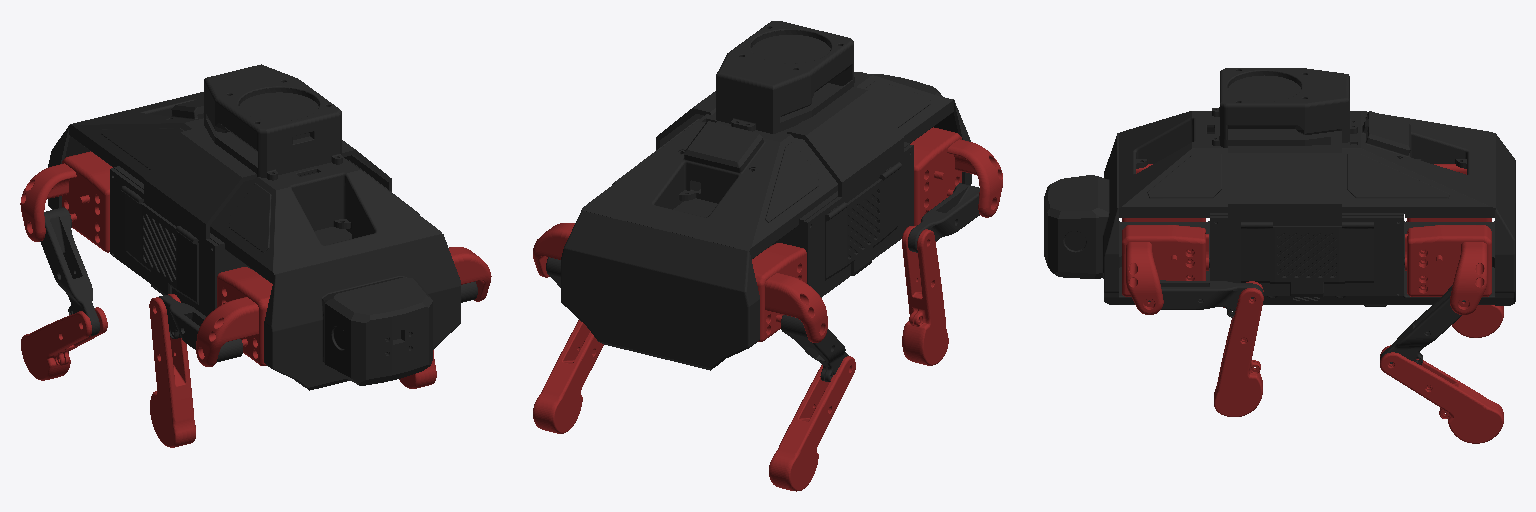
The robot description file, URDF, robot "TORTO":
<?xml version="1.0"?>
<robot name="TORTO" >

    <material name="grey">
        <color rgba="0.2 0.2 0.2 1.0" />
    </material>

   <material name="darkRed">
        <color rgba="0.6 0.2 0.2 1.0" />
    </material>

    <link name="tortoBody_link">
        <visual>
            <origin xyz="0 0 0" rpy="0 0 0" />
            <geometry>
                <mesh filename="package://torto_description/meshes/frame/torto_Body.stl" scale="0.001 0.001 0.001"/>
            </geometry>
            <material name="grey" />
        </visual>
        <collision>
            <origin xyz="0 0 0" rpy="0 0 0" />
            <geometry>
                <mesh filename="package://torto_description/meshes/frame/collision_Body.stl" scale="0.001 0.001 0.001"/>
            </geometry>
        </collision>
                <inertial>
            <origin xyz="0 0 0" rpy="0 0 0" />
            <mass value="3.290203" />
        <inertia ixx="0.03564" ixy="0.000004006" ixz="-0.0000195224"
                iyy="0.01457" iyz="0.0005701"
                izz="0.03507"/>
        </inertial>
    </link>

    <link name="tortoDetoidFL_link">
        <visual>
            <origin xyz="0.0078 -0.04 0.0032" rpy="0 0 1.57" />  
            <geometry>
                <mesh filename="package://torto_description/meshes/frame/torto_detoid_FLBR.stl" scale="0.001 0.001 0.001"/>
            </geometry>
            <material name="darkRed" />
        </visual>
        <collision>
            <origin xyz="0.0078 -0.04 0.0032" rpy="0 0 1.57" />  
            <geometry>
                <mesh filename="package://torto_description/meshes/frame/collision_DetoidFLBR.stl" scale="0.001 0.001 0.001"/>
            </geometry>
        </collision>
        <inertial>
            <origin xyz="0 0 0" rpy="0 0 0" />
            <mass value="0.24" />
            <inertia ixx="0.0001347" ixy="-0.00002384" ixz="0.000004721"
                    iyy="0.0001803" iyz="0.000003043"
                    izz="0.0001855"/>
        </inertial>
    </link>

    <link name="tortoDetoidFR_link">
        <visual>
            <origin xyz="-0.0078 -0.04 0.0032" rpy="0 0 -1.57" />  
            <geometry>
                <mesh filename="package://torto_description/meshes/frame/torto_detoid_FRBL.stl" scale="0.001 0.001 0.001"/>
            </geometry>
            <material name="darkRed" />
        </visual>
        <collision>
            <origin xyz="-0.0078 -0.04 0.0032" rpy="0 0 -1.57" />  
            <geometry>
                <mesh filename="package://torto_description/meshes/frame/collision_DetoidFRBL.stl" scale="0.001 0.001 0.001"/>
            </geometry>
        </collision>
        <inertial>
            <origin xyz="0 0.1 0" rpy="0 0 0" />
            <mass value="0.24" />
            <inertia ixx="0.0001347" ixy="0.00002384" ixz="-0.000004721"
                    iyy="0.0001803" iyz="0.000003035"
                    izz="0.0001855"/>
        </inertial>
    </link>

    <link name="tortoDetoidBL_link">
        <visual>
            <origin xyz="0.0078 0.04 0.0032" rpy="0 0 1.57" />  
            <geometry>
                <mesh filename="package://torto_description/meshes/frame/torto_detoid_FRBL.stl" scale="0.001 0.001 0.001"/>
            </geometry>
            <material name="darkRed" />
        </visual>
        <collision>
            <origin xyz="0.0078 0.04 0.0032" rpy="0 0 1.57" />  
            <geometry>
                <mesh filename="package://torto_description/meshes/frame/collision_DetoidFRBL.stl" scale="0.001 0.001 0.001"/>
            </geometry>
        </collision>
        <inertial>
            <origin xyz="0 0 0" rpy="0 0 0" />
            <mass value="0.24" />
            <inertia ixx="0.0001347" ixy="0.00002384" ixz="-0.000004721"
                    iyy="0.0001803" iyz="0.000003035"
                    izz="0.0001855"/>
        </inertial>
    </link>

    <link name="tortoDetoidBR_link">
        <visual>
            <origin xyz="-0.0078 0.04 0.0032" rpy="0 0 -1.57" />  
            <geometry>
                <mesh filename="package://torto_description/meshes/frame/torto_detoid_FLBR.stl" scale="0.001 0.001 0.001"/>
            </geometry>
            <material name="darkRed" />
        </visual>
        <collision>
            <origin xyz="-0.0078 0.04 0.0032" rpy="0 0 -1.57" />  
            <geometry>
                <mesh filename="package://torto_description/meshes/frame/collision_DetoidFLBR.stl" scale="0.001 0.001 0.001"/>
            </geometry>
        </collision>
        <inertial>
            <origin xyz="0 0 0" rpy="0 0 0" />
            <mass value="0.24" />
            <inertia ixx="0.0001347" ixy="-0.00002384" ixz="0.000004721"
                    iyy="0.0001803" iyz="0.000003043"
                    izz="0.0001855"/>
        </inertial>
    </link>

    <link name="tortoFemurFL_link">
        <visual>
            <origin xyz="0 0.0362 -0.0004" rpy="0 0 1.57" />  
            <geometry>
                <mesh filename="package://torto_description/meshes/frame/torto_femur_FLBR.stl" scale="0.001 0.001 0.001"/>
            </geometry>
            <material name="grey" />
        </visual>
        <collision>
            <origin xyz="0 0.0362 -0.0004" rpy="0 0 1.57" />  
            <geometry>
                <mesh filename="package://torto_description/meshes/frame/collision_FemurFLBR.stl" scale="0.001 0.001 0.001"/>
            </geometry>
        </collision>
        <inertial>
            <origin xyz="0 0 0" rpy="0 0 0" />
            <mass value="0.05" />
            <inertia ixx="0.0000280436" ixy="0.0000017226" ixz="-0.0000119249"
                    iyy="0.0000645956" iyz="0.00000049636"
                    izz="0.0000406034"/>
        </inertial>
    </link>

    <link name="tortoFemurFR_link">
        <visual>
            <origin xyz="0 0.0362 -0.0004" rpy="0 0 -1.57" />  
            <geometry>
                <mesh filename="package://torto_description/meshes/frame/torto_femur_FRBL.stl" scale="0.001 0.001 0.001"/>
            </geometry>
            <material name="grey" />
        </visual>
        <collision>
            <origin xyz="0 0.0362 -0.0004" rpy="0 0 -1.57" />  
            <geometry>
                <mesh filename="package://torto_description/meshes/frame/collision_FemurFRBL.stl" scale="0.001 0.001 0.001"/>
            </geometry>
        </collision>
        <inertial>
            <origin xyz="0 0 0" rpy="0 0 0" />
            <mass value="0.05" />
            <inertia ixx="0.0000280436" ixy="-0.0000017226" ixz="0.0000119249"
                    iyy="0.0000645956" iyz="0.00000049637"
                    izz="0.0000406034"/>
        </inertial>
    </link>

    <link name="tortoFemurBL_link">
        <visual>
            <origin xyz="0 -0.0362 -0.0004" rpy="0 0 1.57" />  
            <geometry>
                <mesh filename="package://torto_description/meshes/frame/torto_femur_FRBL.stl" scale="0.001 0.001 0.001"/>
            </geometry>
            <material name="grey" />
        </visual>
        <collision>
            <origin xyz="0 -0.0362 -0.0004" rpy="0 0 -1.57" />  
            <geometry>
                <mesh filename="package://torto_description/meshes/frame/collision_FemurFRBL.stl" scale="0.001 0.001 0.001"/>
            </geometry>
        </collision>
        <inertial>
            <origin xyz="0 0 0" rpy="0 0 0" />
            <mass value="0.05" />
            <inertia ixx="0.0000280436" ixy="-0.0000017226" ixz="0.0000119249"
                    iyy="0.0000645956" iyz="0.00000049637"
                    izz="0.0000406034"/>
        </inertial>
    </link>

    <link name="tortoFemurBR_link">
        <visual>
            <origin xyz="0 -0.0362 -0.0004" rpy="0 0 -1.57" />  
            <geometry>
                <mesh filename="package://torto_description/meshes/frame/torto_femur_FLBR.stl" scale="0.001 0.001 0.001"/>
            </geometry>
            <material name="grey" />
        </visual>
        <collision>
            <origin xyz="0 -0.0362 -0.0004" rpy="0 0 1.57" />  
            <geometry>
                <mesh filename="package://torto_description/meshes/frame/collision_FemurFLBR.stl" scale="0.001 0.001 0.001"/>
            </geometry>
        </collision>
        <inertial>
            <origin xyz="0 0 0" rpy="0 0 0" />
            <mass value="0.05" />
            <inertia ixx="0.0000280436" ixy="0.0000017226" ixz="-0.0000119249"
                    iyy="0.0000645956" iyz="0.00000049636"
                    izz="0.0000406034"/>
        </inertial>
    </link>

    <link name="tortoTiBiaFL_link">
        <visual>
            <origin xyz="0.001 -0.06956 -0.00188" rpy="0 0 1.57" />  
            <geometry>
                <mesh filename="package://torto_description/meshes/frame/torto_tibia_FLBR.stl" scale="0.001 0.001 0.001"/>
            </geometry>
            <material name="darkRed" />
        </visual>
        <collision>
            <origin xyz="0.001 -0.06956 -0.00188" rpy="0 0 1.57" />  
            <geometry>
                <mesh filename="package://torto_description/meshes/frame/collision_TibiaFLBR.stl" scale="0.001 0.001 0.001"/>
            </geometry>
        </collision>
        <inertial>
            <origin xyz="0 0 0" rpy="0 0 0" />
            <mass value="0.07" />
            <inertia ixx="0.0000096464" ixy="0.000000000076" ixz="-0.0000048666"
                    iyy="0.0000833119" iyz="0.000000000067"
                    izz="0.0000795021" />
        </inertial>
    </link>

    <link name="tortoTiBiaFR_link">
        <visual>
            <origin xyz="-0.001 -0.06956 -0.00188" rpy="0 0 -1.57" />  
            <geometry>
                <mesh filename="package://torto_description/meshes/frame/torto_tibia_FRBL.stl" scale="0.001 0.001 0.001"/>
            </geometry>
            <material name="darkRed" />
        </visual>
        <collision>
            <origin xyz="-0.001 -0.06956 -0.00188" rpy="0 0 -1.57" />  
            <geometry>
                <mesh filename="package://torto_description/meshes/frame/collision_TibiaFRBL.stl" scale="0.001 0.001 0.001"/>
            </geometry>
        </collision>
        <inertial>
            <origin xyz="0 0 0" rpy="0 0 0" />
            <mass value="0.07" />
            <inertia ixx="0.0000096464" ixy="-0.000000000076" ixz="0.0000048666"
                    iyy="0.0000833119" iyz="0.000000000067"
                    izz="0.0000795021" />
        </inertial>
    </link>

    <link name="tortoTiBiaBL_link">
        <visual>
            <origin xyz="-0.001 -0.06956 0.00188" rpy="0 3.14 1.57" />  
            <geometry>
                <mesh filename="package://torto_description/meshes/frame/torto_tibia_FRBL.stl" scale="0.001 0.001 0.001"/>
            </geometry>
            <material name="darkRed" />
        </visual>
        <collision>
            <origin xyz="-0.001 -0.06956 0.00188" rpy="0 0 -1.57" />  
            <geometry>
                <mesh filename="package://torto_description/meshes/frame/collision_TibiaFRBL.stl" scale="0.001 0.001 0.001"/>
            </geometry>
        </collision>
        <inertial>
            <origin xyz="0 0 0" rpy="0 0 0" />
            <mass value="3.29" />
            <inertia ixx="0.0000096464" ixy="-0.000000000076" ixz="0.0000048666"
                    iyy="0.0000833119" iyz="0.000000000067"
                    izz="0.0000795021" />
        </inertial>
    </link>

    <link name="tortoTiBiaBR_link">
        <visual>
            <origin xyz="0.001 -0.06956 0.00188" rpy="0 3.14 -1.57" />  
            <geometry>
                <mesh filename="package://torto_description/meshes/frame/torto_tibia_FLBR.stl" scale="0.001 0.001 0.001"/>
            </geometry>
            <material name="darkRed" />
        </visual>
        <collision>
            <origin xyz="0.001 -0.06956 0.00188" rpy="0 0 1.57" />  
            <geometry>
                <mesh filename="package://torto_description/meshes/frame/collision_TibiaFLBR.stl" scale="0.001 0.001 0.001"/>
            </geometry>
        </collision>
        <inertial>
            <origin xyz="0 0 0" rpy="0 0 0" />
            <mass value="0.07" />
            <inertia ixx="0.0000096464" ixy="0.000000000076" ixz="-0.0000048666"
                    iyy="0.0000833119" iyz="0.000000000067"
                    izz="0.0000795021" />
        </inertial>
    </link>





    <joint name="body_detoidFL_joint" type="revolute">
        <parent link="tortoBody_link"/>
        <child link="tortoDetoidFL_link"/>
        <origin xyz="0.07 -0.0876 -0.0143" rpy="0 0 0" />
        <axis xyz="0 1 0"/>
        <limit lower="0.74" upper="-0.78" velocity="100" effort="100"/>
    </joint>

    <joint name="body_detoidFR_joint" type="revolute">
        <parent link="tortoBody_link"/>
        <child link="tortoDetoidFR_link"/>
        <origin xyz="-0.07 -0.0876 -0.0143" rpy="0 0 0" />
        <axis xyz="0 1 0"/>
        <limit lower="-0.74" upper="0.78" velocity="100" effort="100"/>
    </joint>

    <joint name="body_detoidBL_joint" type="revolute">
        <parent link="tortoBody_link"/>
        <child link="tortoDetoidBL_link"/>
        <origin xyz="0.07 0.0876 -0.0143" rpy="0 0 0" />
        <axis xyz="0 1 0"/>
        <limit lower="0.74" upper="-0.78" velocity="100" effort="100"/>
    </joint>

    <joint name="body_detoidBR_joint" type="revolute">
        <parent link="tortoBody_link"/>
        <child link="tortoDetoidBR_link"/>
        <origin xyz="-0.07 0.0876 -0.0143" rpy="0 0 0" />
        <axis xyz="0 1 0"/>
        <limit lower="-0.74" upper="0.78" velocity="100" effort="100"/>
    </joint>

    <joint name="detoidFL_FemurFL_joint" type="revolute">
        <parent link="tortoDetoidFL_link"/>
        <child link="tortoFemurFL_link"/>
        <origin xyz="0.0406 -0.050152 -0.012844" rpy="0 0 0" />
        <axis xyz="1 0 0"/>
        <limit lower="0.001" upper="-1.57" velocity="100" effort="100"/>
    </joint>

    <joint name="detoidFR_FemurFR_joint" type="revolute">
        <parent link="tortoDetoidFR_link"/>
        <child link="tortoFemurFR_link"/>
        <origin xyz="-0.0406 -0.050152 -0.012844" rpy="0 0 0" />
        <axis xyz="1 0 0"/>
        <limit lower="0.001" upper="-1.57" velocity="100" effort="100"/>
    </joint>

    <joint name="detoidBL_FemurBL_joint" type="revolute">
        <parent link="tortoDetoidBL_link"/>
        <child link="tortoFemurBL_link"/>
        <origin xyz="0.0406 0.050152 -0.012844" rpy="0 0 0" />
        <axis xyz="1 0 0"/>
        <limit lower="0.001" upper="1.57" velocity="100" effort="100"/>
    </joint>

    <joint name="detoidBR_FemurBR_joint" type="revolute">
        <parent link="tortoDetoidBR_link"/>
        <child link="tortoFemurBR_link"/>
        <origin xyz="-0.0406 0.050152 -0.012844" rpy="0 0 0" />
        <axis xyz="1 0 0"/>
        <limit lower="0.001" upper="1.57" velocity="100" effort="100"/>
    </joint>

    <joint name="FemurFL_TiBiaFL_joint" type="revolute">
        <parent link="tortoFemurFL_link"/>
        <child link="tortoTiBiaFL_link"/>
        <origin xyz="0 0.09 0" rpy="0 0 0" />
        <axis xyz="1 0 0"/>
        <limit lower="2.00" upper="0.78" velocity="100" effort="100"/>
    </joint>

    <joint name="FemurFR_TiBiaFR_joint" type="revolute">
        <parent link="tortoFemurFR_link"/>
        <child link="tortoTiBiaFR_link"/>
        <origin xyz="0 0.09 0" rpy="0 0 0" />
        <axis xyz="1 0 0"/>
        <limit lower="2.00" upper="0.78" velocity="100" effort="100"/>
    </joint>
        <joint name="FemurBL_TiBiaBL_joint" type="revolute">
        <parent link="tortoFemurBL_link"/>
        <child link="tortoTiBiaBL_link"/>
        <origin xyz="0 -0.09 0" rpy="0 0 0" />
        <axis xyz="1 0 0"/>
        <limit lower="1.14" upper="2.36" velocity="100" effort="100"/>
    </joint>

    <joint name="FemurBR_TiBiaBR_joint" type="revolute">
        <parent link="tortoFemurBR_link"/>
        <child link="tortoTiBiaBR_link"/>
        <origin xyz="0 -0.09 0" rpy="0 0 0" />
        <axis xyz="1 0 0"/>
        <limit lower="1.14" upper="2.36" velocity="100" effort="100"/>
    </joint>
</robot>

--- Facts derived from the render (not from the file) ---
3 views of the same robot in one strip: view 1: azimuth 30°, elevation 25°; view 2: azimuth 150°, elevation 25°; view 3: azimuth 270°, elevation 25° (orthographic).
Model TORTO with 13 links and 12 joints (12 revolute), rooted at tortoBody_link, posed joints at zero except 6 at the middle of their limits (detoidBL_FemurBL_joint = 0.7855, detoidBR_FemurBR_joint = 0.7855, FemurFL_TiBiaFL_joint = 1.39, FemurFR_TiBiaFR_joint = 1.39, FemurBL_TiBiaBL_joint = 1.75, FemurBR_TiBiaBR_joint = 1.75).
Visible links, largest first — view 1: tortoBody_link, tortoDetoidBR_link, tortoDetoidFR_link, tortoTiBiaFR_link, tortoFemurBR_link, tortoTiBiaBR_link, tortoFemurFR_link, tortoDetoidFL_link, tortoTiBiaFL_link; view 2: tortoBody_link, tortoDetoidFR_link, tortoDetoidBR_link, tortoTiBiaBR_link, tortoTiBiaFR_link, tortoTiBiaBL_link, tortoFemurFR_link, tortoFemurBR_link, tortoDetoidBL_link; view 3: tortoBody_link, tortoDetoidBL_link, tortoDetoidFL_link, tortoTiBiaBL_link, tortoTiBiaFL_link, tortoFemurFL_link, tortoFemurBL_link, tortoTiBiaBR_link.
Link boxes in pixels (x1,y1,x2,y2): tortoBody_link: [48, 64, 460, 390]; tortoDetoidBR_link: [20, 151, 112, 252]; tortoDetoidFR_link: [196, 267, 272, 366]; tortoTiBiaFR_link: [149, 294, 195, 447]; tortoFemurBR_link: [40, 207, 99, 336]; tortoTiBiaBR_link: [21, 307, 107, 380]; tortoFemurFR_link: [159, 295, 242, 362]; tortoDetoidFL_link: [449, 247, 491, 301]; tortoTiBiaFL_link: [399, 350, 436, 388]; tortoBody_link: [561, 21, 971, 370]; tortoDetoidFR_link: [910, 127, 1002, 225]; tortoDetoidBR_link: [752, 243, 827, 342]; tortoTiBiaBR_link: [769, 356, 855, 491]; tortoTiBiaFR_link: [902, 226, 948, 365]; tortoTiBiaBL_link: [533, 320, 603, 433]; tortoFemurFR_link: [908, 183, 979, 252]; tortoFemurBR_link: [781, 315, 848, 381]; tortoDetoidBL_link: [533, 223, 574, 277]; tortoBody_link: [1044, 68, 1515, 306]; tortoDetoidBL_link: [1405, 225, 1491, 314]; tortoDetoidFL_link: [1122, 225, 1208, 314]; tortoTiBiaBL_link: [1380, 345, 1503, 443]; tortoTiBiaFL_link: [1214, 281, 1263, 416]; tortoFemurFL_link: [1148, 280, 1263, 317]; tortoFemurBL_link: [1380, 285, 1465, 364]; tortoTiBiaBR_link: [1452, 305, 1503, 337].
Size in the robot's own frame: 0.2609 by 0.4129 by 0.2913 metres.
13 mesh visuals loaded from 7 distinct referenced files (7 binary STL).
